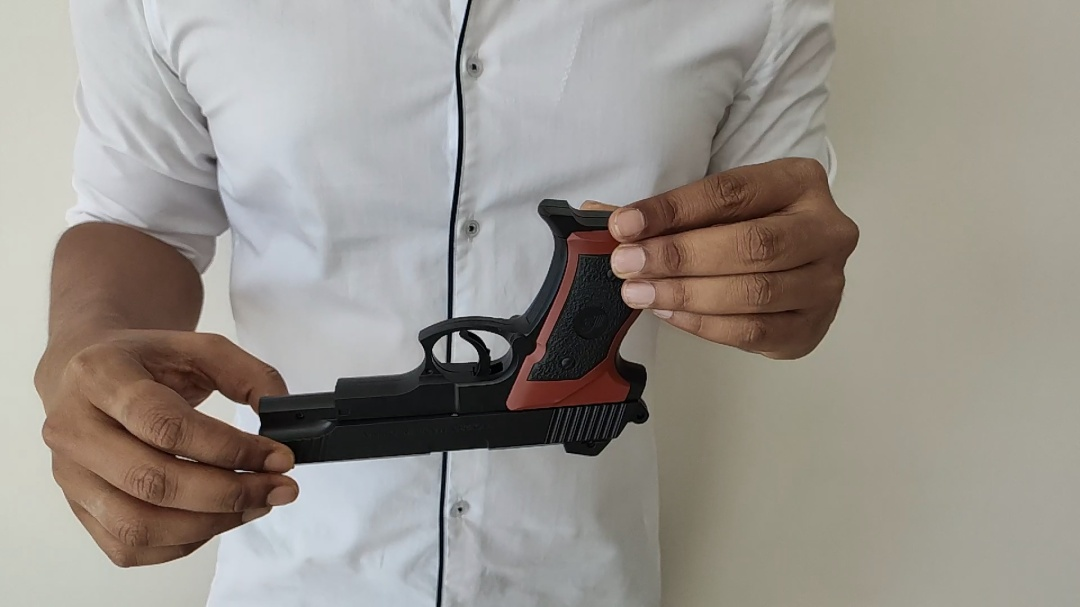gun: (257, 201, 651, 464)
